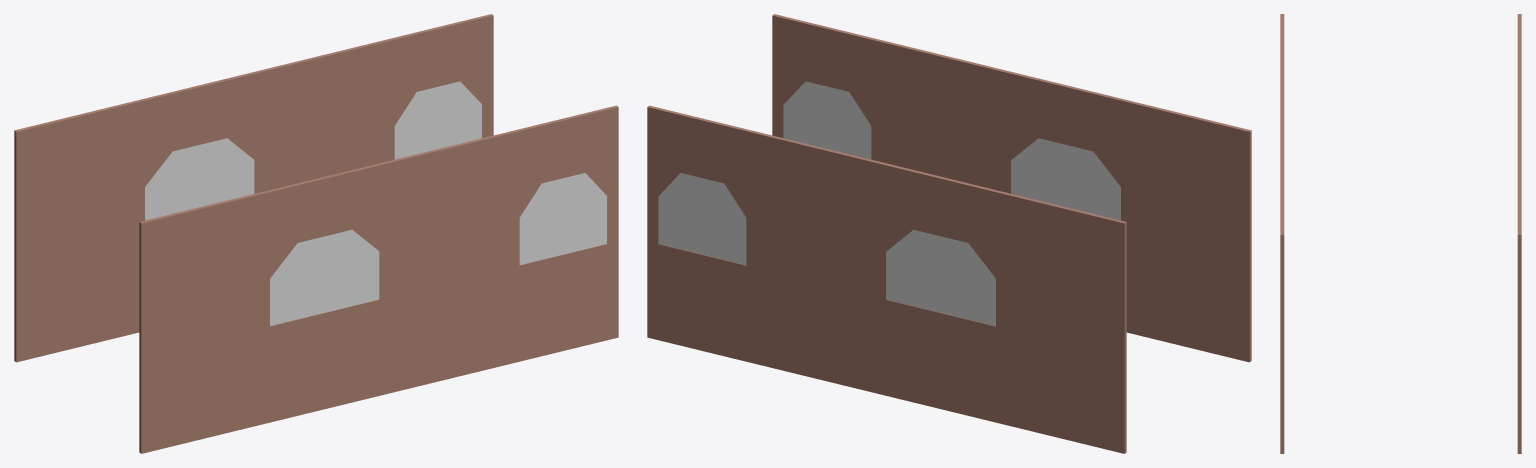
Rendered from hall.fbx_wall.fbx.
3 views of the same model, side by side, from view 1: azimuth 30°, elevation 25°; view 2: azimuth 150°, elevation 25°; view 3: azimuth 270°, elevation 25° (orthographic). The views are drawn at different scales.
Visible parts, largest first — view 1: Cube.006, Cube.003, Cube.007, Cube.008, Cube.004, Cube.005; view 2: Cube.003, Cube.006, Cube.004, Cube.005, Cube.007, Cube.008; view 3: Cube.003, Cube.006.
Part boxes in pixels (x1,y1,x2,y2): Cube.006: [139, 105, 618, 453]; Cube.003: [14, 14, 493, 362]; Cube.007: [270, 229, 379, 325]; Cube.008: [519, 173, 607, 264]; Cube.004: [145, 138, 254, 220]; Cube.005: [394, 81, 482, 159]; Cube.003: [647, 105, 1126, 453]; Cube.006: [772, 14, 1251, 362]; Cube.004: [886, 229, 995, 325]; Cube.005: [658, 173, 746, 264]; Cube.007: [1011, 138, 1120, 220]; Cube.008: [783, 81, 871, 159]; Cube.003: [1517, 14, 1521, 453]; Cube.006: [1280, 14, 1284, 453].
Bounding box in the file's own units: 2600 × 1200 × 1200.
